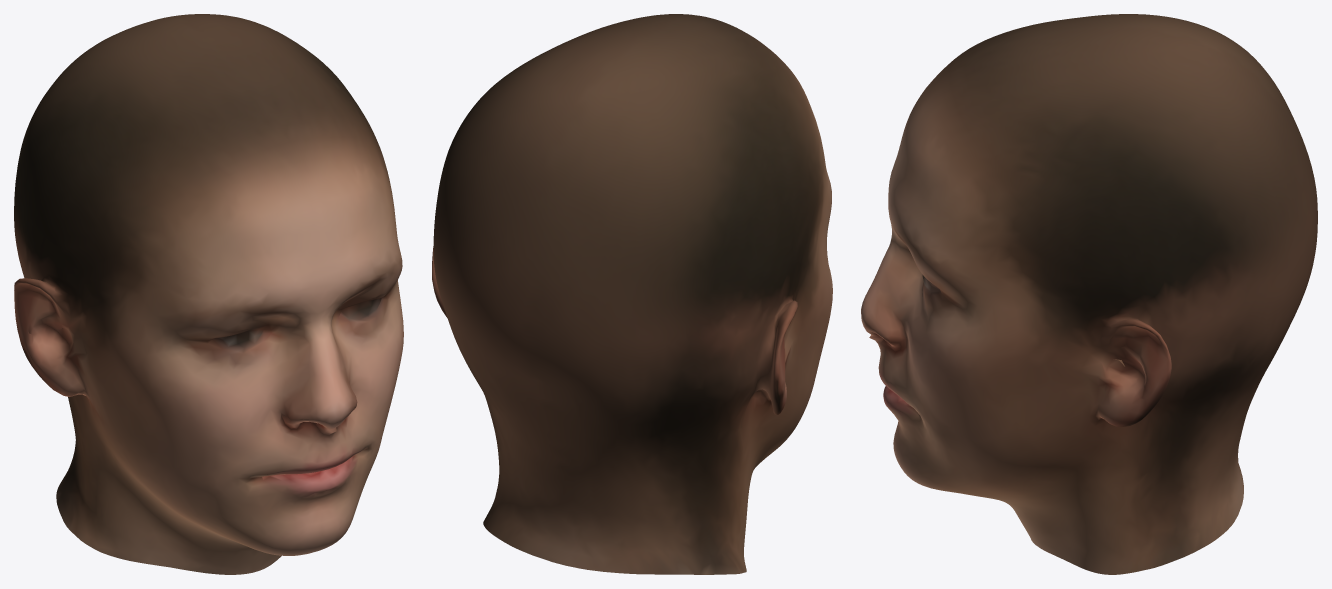
The model's file is smooth_head.obj.
The picture shows the model from 3 angles, left to right: view 1: azimuth 30°, elevation 25°; view 2: azimuth 150°, elevation 25°; view 3: azimuth 270°, elevation 25°; orthographic projection. The views are drawn at different scales.
Bounding box in the file's own units: 168764 × 235463 × 192806.
